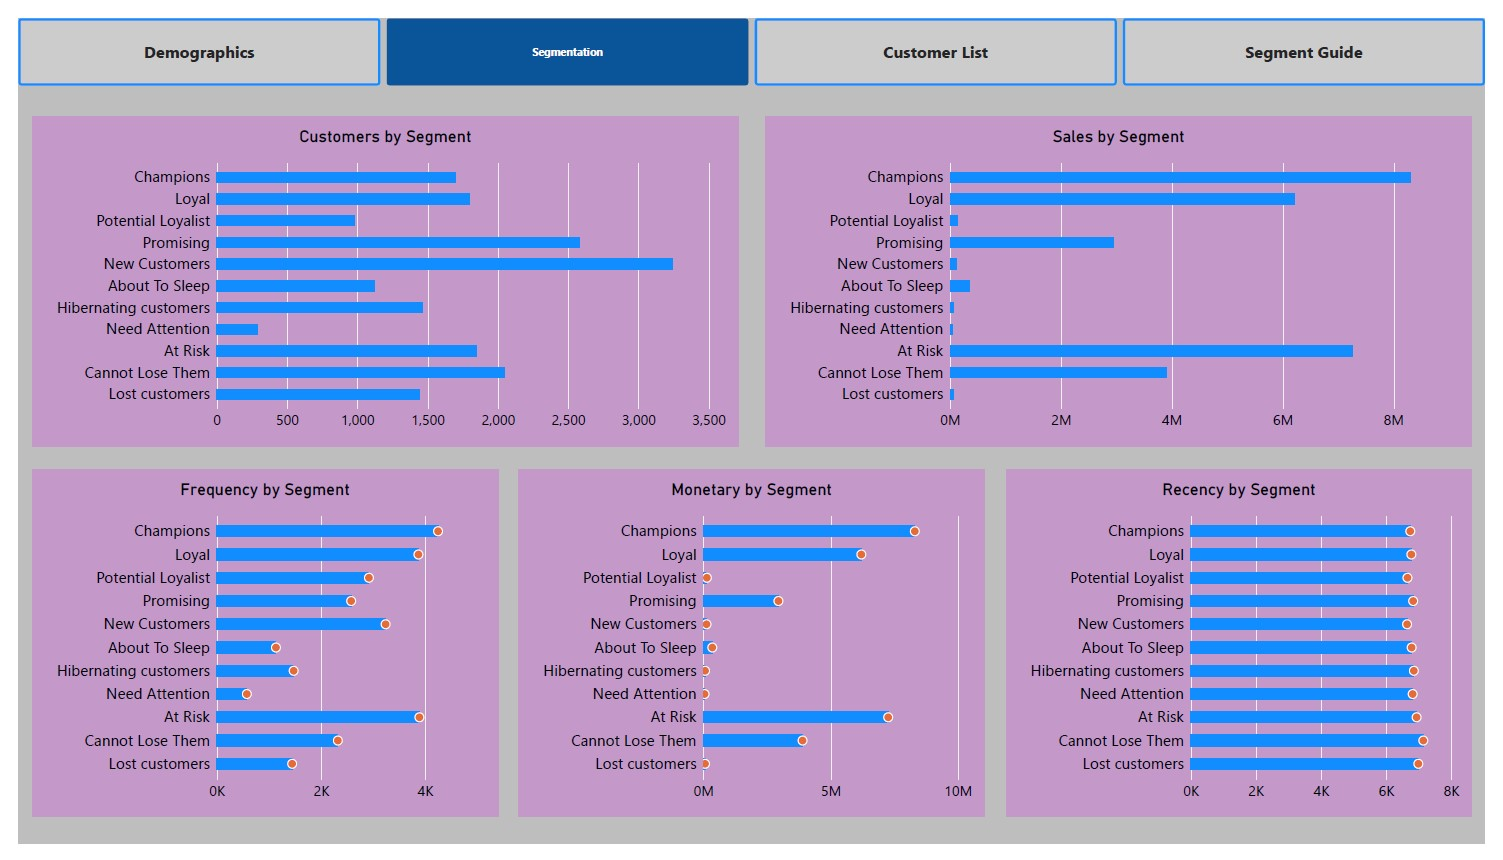

This screenshot's page, from the dashboard's own definition file:
{"tool":"powerbi","page":{"name":"Segmentation","canvas":[1920,1080],"ordinal":1},"visuals":[{"type":"clusteredBarChart","title":"Customers by Segment","fields":{"Category":["Segment Table.Segment"],"Y":["Count(FactInternetSales.CustomerKey)"]},"box":[17.5,127.5,925,432.5],"z":0},{"type":"clusteredBarChart","title":"Sales by Segment","fields":{"Category":["Segment Table.Segment"],"Y":["Sum(FactInternetSales.SalesAmount)"]},"box":[977.5,127.5,925,432.5],"z":1000},{"type":"clusteredBarChart","title":"Recency by Segment","fields":{"Category":["Segment Table.Segment"],"Y":["All Measures.Recency Value"]},"box":[1292.5,590,610,455],"z":2000},{"type":"clusteredBarChart","title":"Frequency by Segment","fields":{"Category":["Segment Table.Segment"],"Y":["All Measures.Frequency Value"]},"box":[17.5,590,610,455],"z":3000},{"type":"clusteredBarChart","title":"Monetary by Segment","fields":{"Category":["Segment Table.Segment"],"Y":["All Measures.Monetary Value"]},"box":[655,590,610,455],"z":4000},{"type":"pageNavigator","box":[0,0,1920,87.5],"z":5000}]}

Visuals, with their boxes in screenshot pixels (x1, y1, x2, y2), scaled from the page's 1920x1080 canvas onto the 1503x860 screenshot:
"Customers by Segment" clusteredBarChart: (left=14, top=102, right=738, bottom=446)
"Sales by Segment" clusteredBarChart: (left=765, top=102, right=1489, bottom=446)
"Recency by Segment" clusteredBarChart: (left=1012, top=470, right=1489, bottom=832)
"Frequency by Segment" clusteredBarChart: (left=14, top=470, right=491, bottom=832)
"Monetary by Segment" clusteredBarChart: (left=513, top=470, right=990, bottom=832)
pageNavigator: (left=0, top=0, right=1502, bottom=70)
